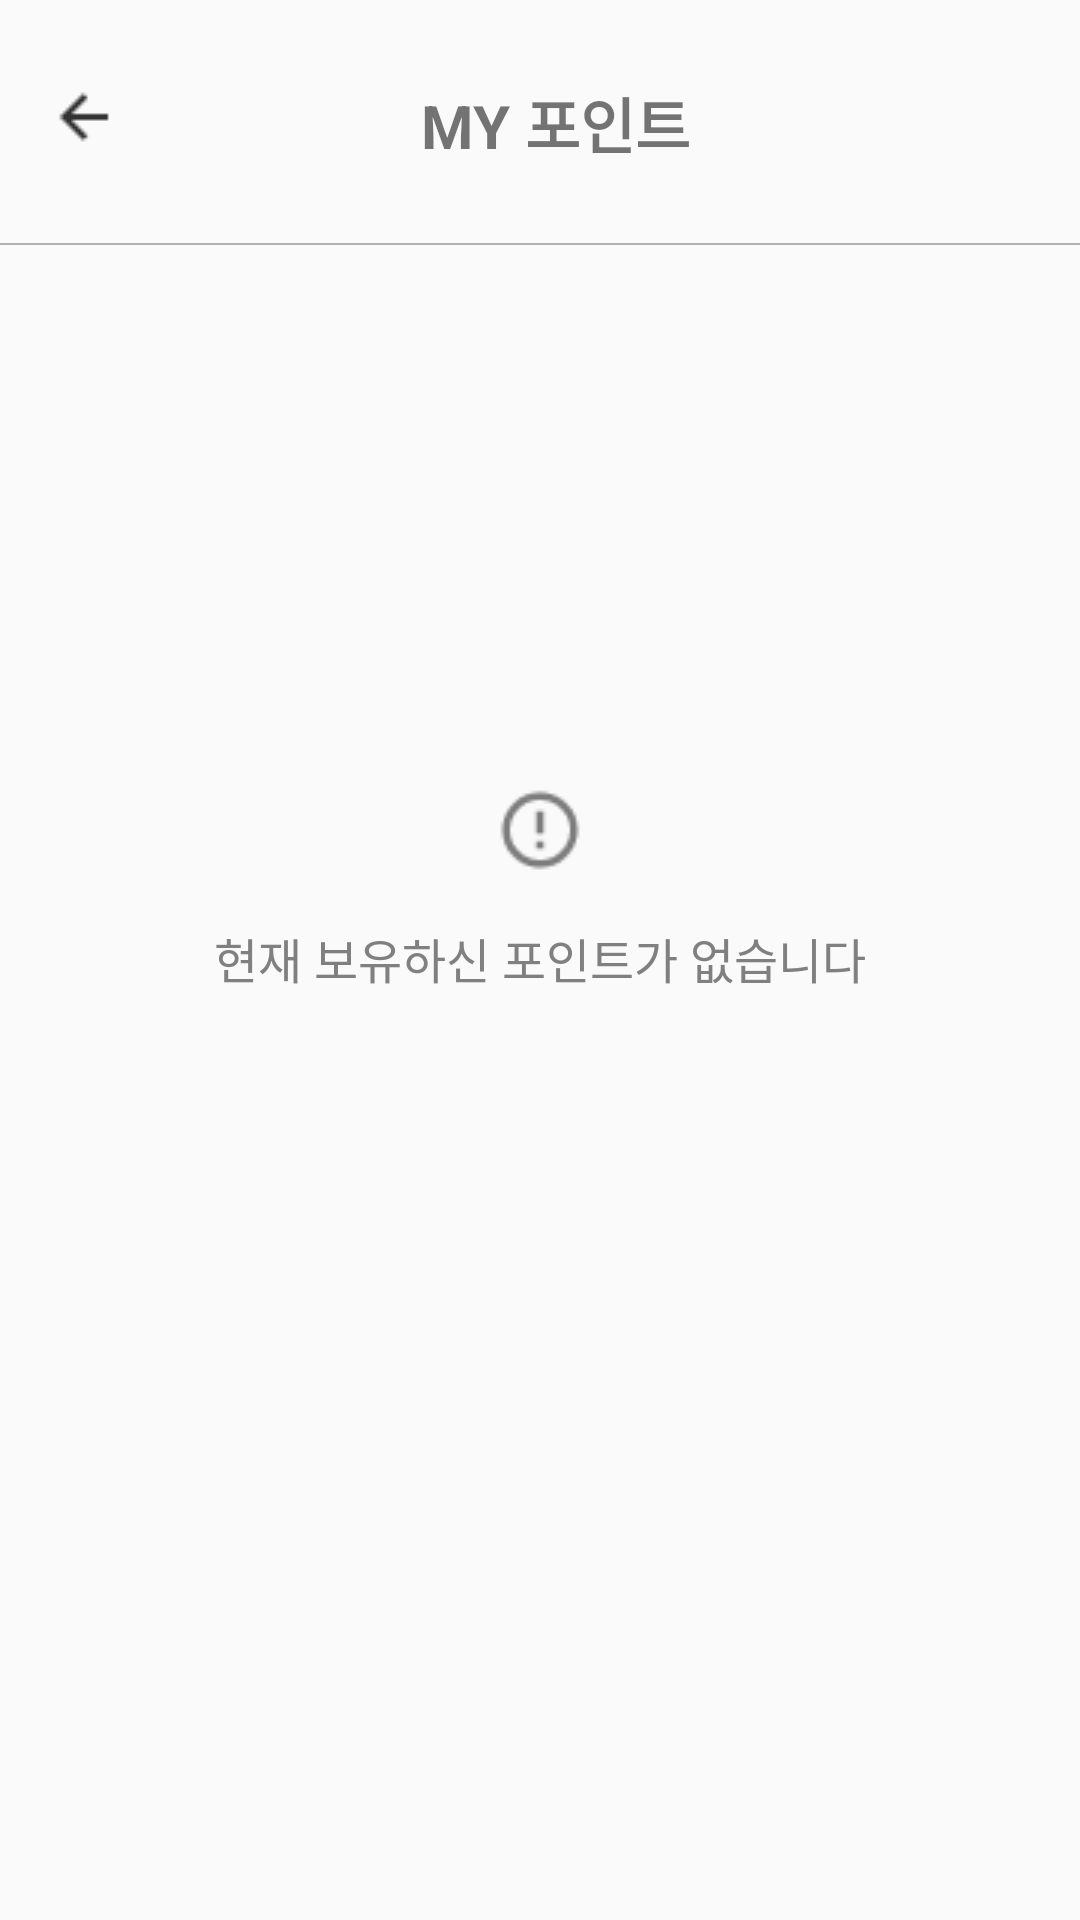

Icons on this 1080 × 1920 Android screen, each with the point to tap as point (x, y):
leftline: point (84, 117)
